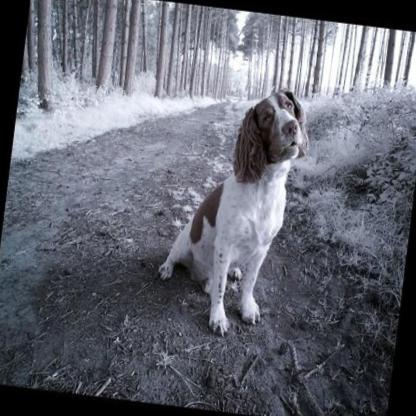clumber: (147, 72, 315, 342)
